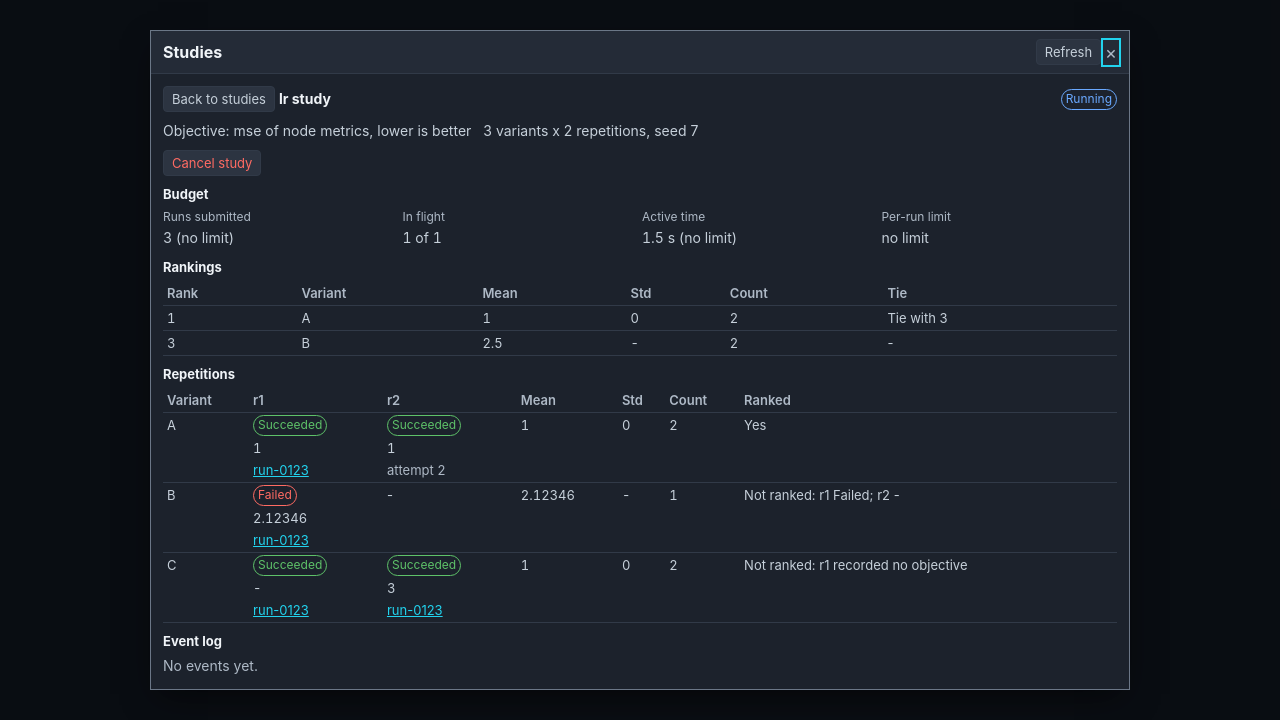
Test: StudiesPanel: one study › cancels a running study and shows a refusal
This screenshot has width=1280, height=720.
Click the button "Cancel study" at (212, 163), box [163, 150, 261, 176]
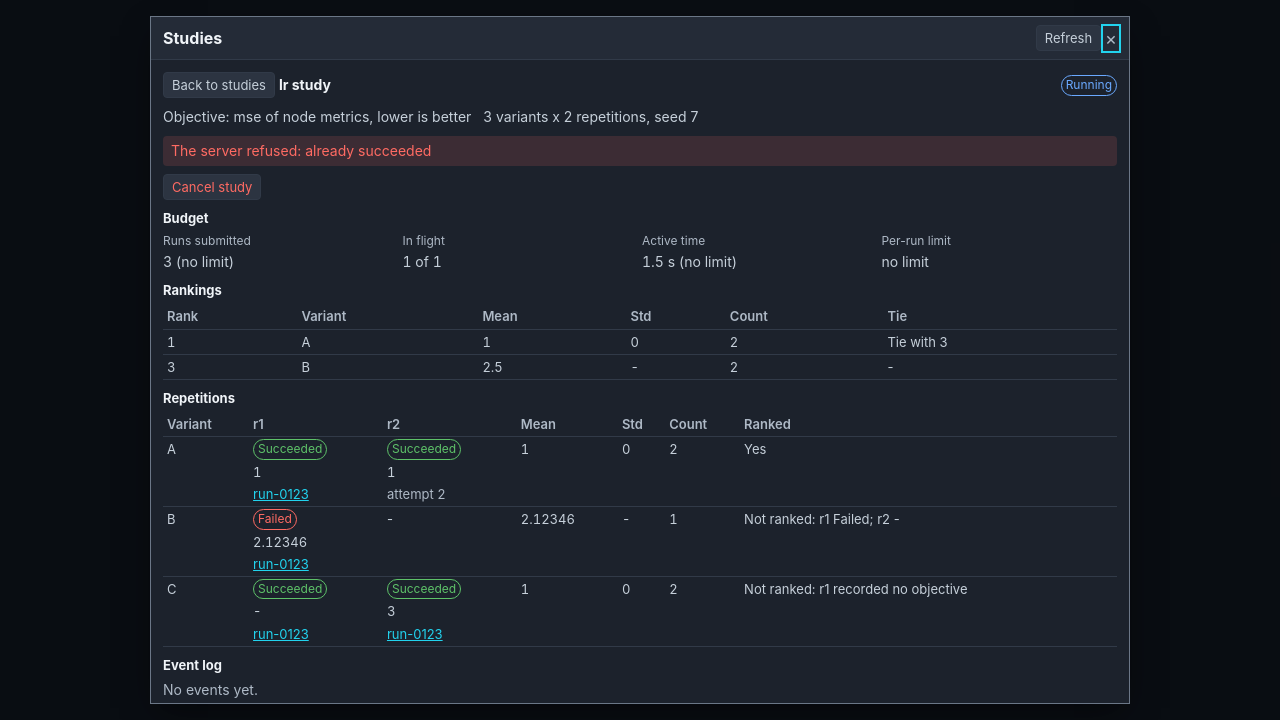
Check: the text "The server refused: already succeeded" is shown, box [163, 136, 1117, 166]
